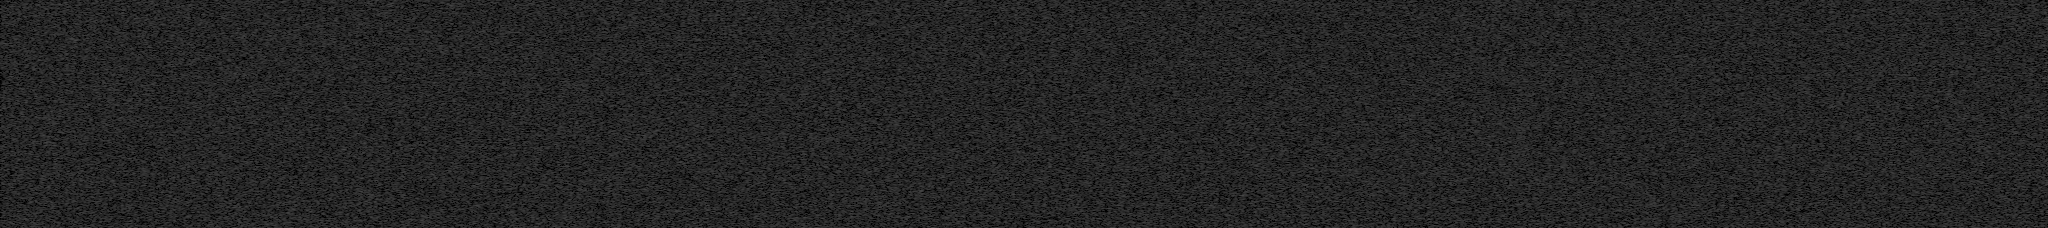wv_am: (8, 0, 12, 150), (8, 154, 12, 169), (8, 205, 12, 218), (8, 169, 12, 182), (8, 188, 12, 199), (8, 221, 12, 228)
wv_lsb: (536, 5, 541, 90), (536, 165, 541, 202), (536, 91, 541, 121), (537, 122, 541, 162), (536, 203, 541, 228), (537, 162, 541, 165)
wv_wbfm: (366, 0, 414, 228), (773, 0, 820, 195), (775, 198, 811, 228)
